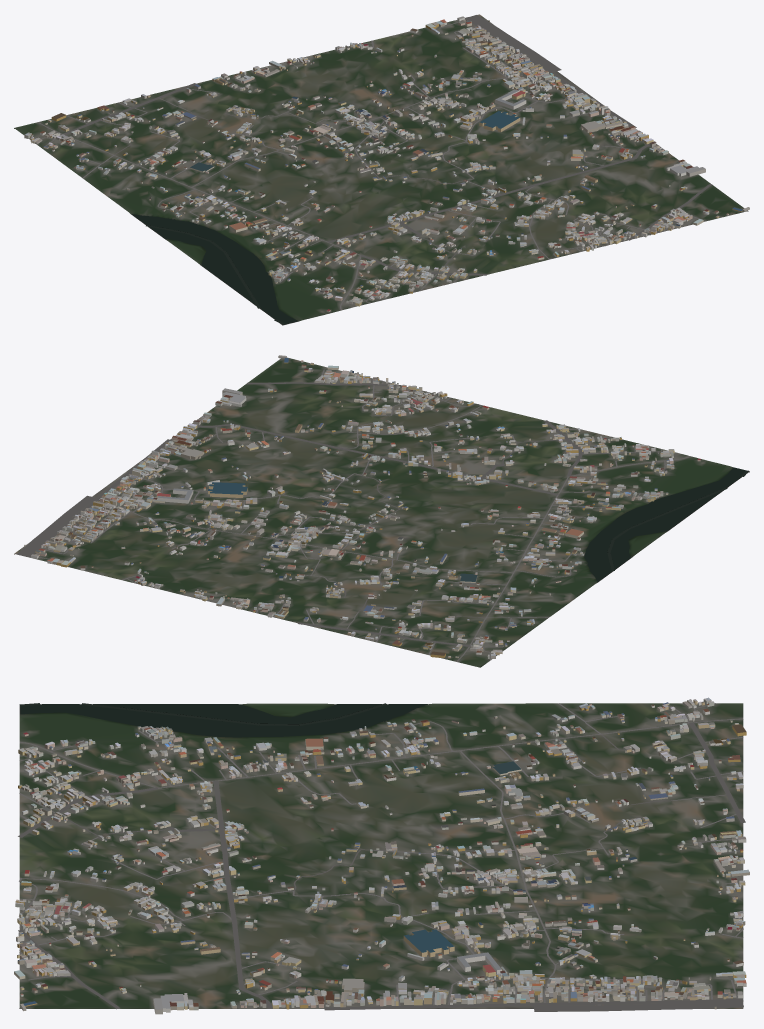
3 renders of one model, top to bottom at view 1: azimuth 30°, elevation 25°; view 2: azimuth 150°, elevation 25°; view 3: azimuth 270°, elevation 25°, orthographic. The views are drawn at different scales.
Parts seen in each view (by area): view 1: ground, buildings, roads, water; view 2: ground, buildings, roads, water; view 3: ground, buildings, roads, water.
Part boxes in pixels (bbox=[...]): ground: bbox=[14, 14, 748, 325]; buildings: bbox=[24, 16, 749, 312]; roads: bbox=[34, 15, 747, 310]; water: bbox=[132, 214, 298, 324]; ground: bbox=[14, 357, 749, 667]; buildings: bbox=[24, 355, 700, 658]; roads: bbox=[17, 369, 690, 661]; water: bbox=[584, 467, 748, 581]; ground: bbox=[19, 703, 743, 1008]; buildings: bbox=[14, 697, 749, 1014]; roads: bbox=[18, 703, 745, 1011]; water: bbox=[19, 703, 427, 737].
Size of the model in its own units: 1432 by 23.98 by 1424.
